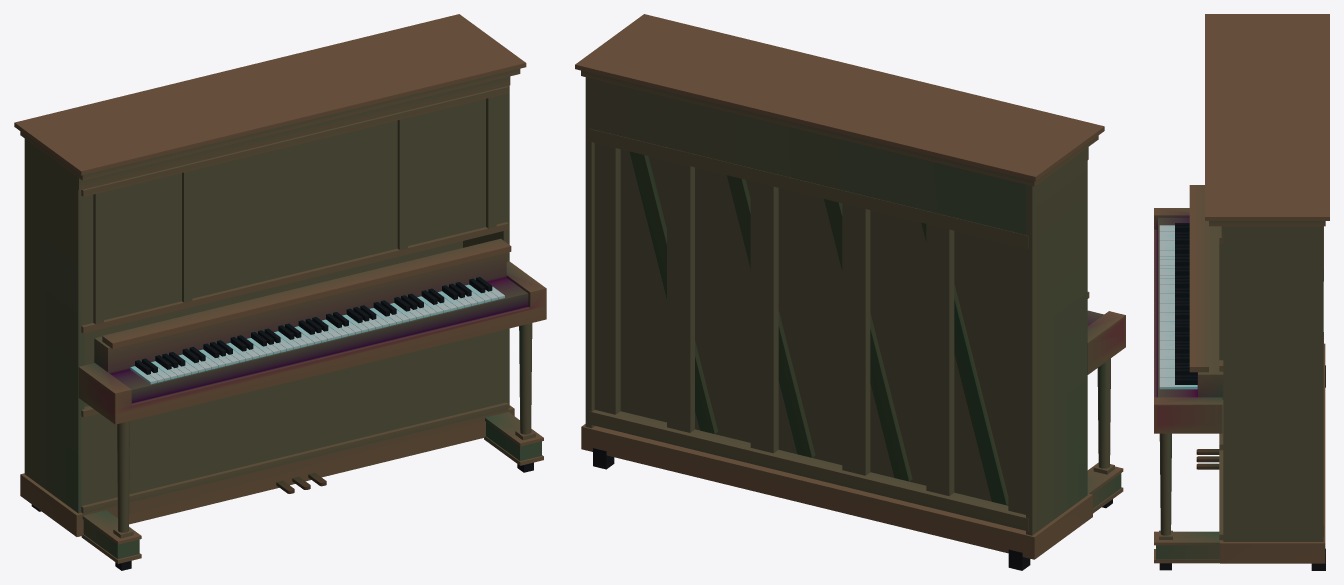
The picture shows the model from 3 angles, left to right: view 1: azimuth 30°, elevation 25°; view 2: azimuth 150°, elevation 25°; view 3: azimuth 270°, elevation 25°; orthographic projection. The views are drawn at different scales.
Parts seen in each view (by area): view 1: upper_panel, lid, lower_panel, key_tray, side.001, base, music_ledge, upper_cap, panel_rail, panel_rail.002, panel_rail.001, back_panel (+12 smaller); view 2: back_panel, lid, rear_top, side.001, base, rear_rail, rear_post.003, rear_post.001, rear_post.002, rear_post.004, rear_post.005, rear_rail.001 (+9 smaller); view 3: side, lid, key_tray, music_ledge, base, leg, foot, foot_step, rim, panel_stile.003, panel_rail.002, foot_sole.
Part boxes in pixels (x1=…): upper_panel: x1=81, y1=94, x2=506, y2=325; lid: x1=14, y1=14, x2=526, y2=175; lower_panel: x1=81, y1=329, x2=506, y2=505; key_tray: x1=78, y1=253, x2=546, y2=424; side.001: x1=24, y1=138, x2=84, y2=513; base: x1=20, y1=405, x2=514, y2=536; music_ledge: x1=102, y1=238, x2=511, y2=348; upper_cap: x1=78, y1=76, x2=510, y2=190; panel_rail: x1=81, y1=222, x2=508, y2=333; panel_rail.002: x1=81, y1=402, x2=508, y2=513; panel_rail.001: x1=81, y1=86, x2=508, y2=196; back_panel: x1=84, y1=241, x2=462, y2=406; back_panel: x1=620, y1=149, x2=1008, y2=505; lid: x1=575, y1=14, x2=1104, y2=181; rear_top: x1=591, y1=78, x2=1025, y2=234; side.001: x1=1026, y1=148, x2=1087, y2=535; base: x1=581, y1=424, x2=1092, y2=559; rear_rail: x1=589, y1=410, x2=1028, y2=531; rear_post.003: x1=750, y1=181, x2=778, y2=453; rear_post.001: x1=926, y1=224, x2=954, y2=496; rear_post.002: x1=842, y1=203, x2=870, y2=475; rear_post.004: x1=667, y1=160, x2=694, y2=432; rear_post.005: x1=594, y1=143, x2=620, y2=414; rear_rail.001: x1=589, y1=128, x2=1028, y2=248; side: x1=1223, y1=226, x2=1323, y2=541; lid: x1=1205, y1=14, x2=1329, y2=220; key_tray: x1=1154, y1=208, x2=1223, y2=433; music_ledge: x1=1189, y1=185, x2=1208, y2=372; base: x1=1220, y1=343, x2=1325, y2=563; leg: x1=1159, y1=433, x2=1171, y2=535; foot: x1=1156, y1=545, x2=1219, y2=559; foot_step: x1=1154, y1=531, x2=1219, y2=545; rim: x1=1209, y1=221, x2=1325, y2=226; panel_stile.003: x1=1219, y1=228, x2=1223, y2=360; panel_rail.002: x1=1219, y1=450, x2=1223, y2=540; foot_sole: x1=1154, y1=549, x2=1219, y2=563.
Bounding box in the file's own units: 1.5 × 1.24 × 0.549.
